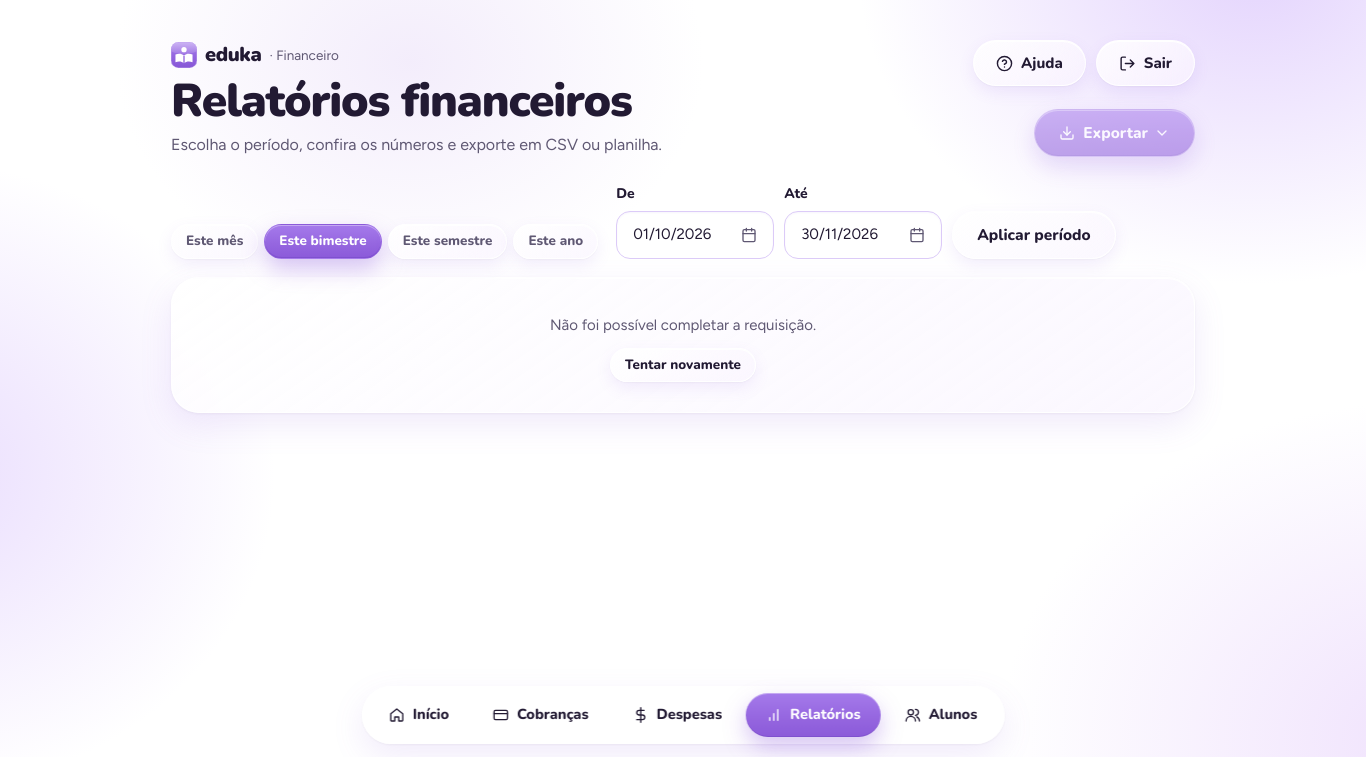
Relatórios financeiros › sem o relatório, avisa o erro e não deixa exportar
expect the message "Não foi possível completar a requisição. Tentar novamente" is shown: met, box [171,277,1195,413]
expect the button "Exportar" is disabled: met, box [1034,109,1195,157]
Click the button "Tentar novamente": (683, 365) [610,348,756,382]
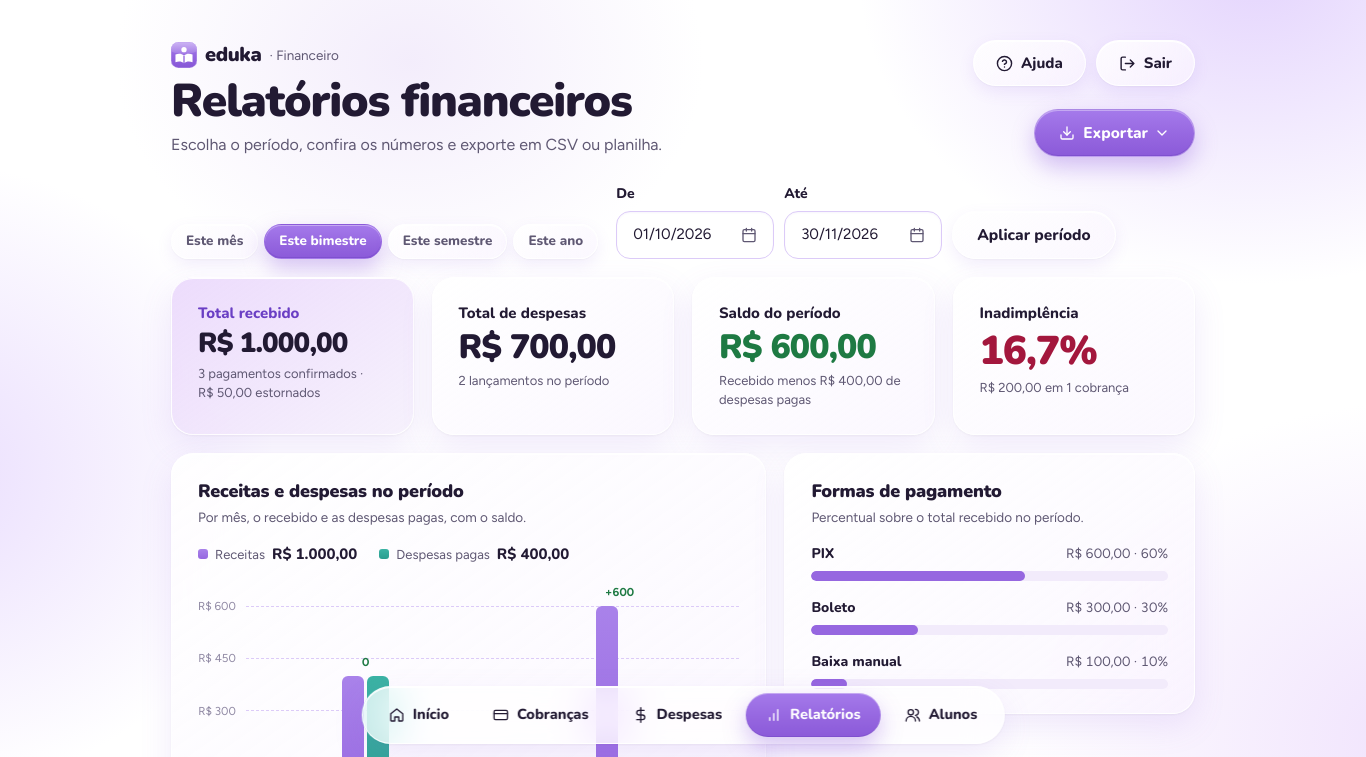
expect the element named "Números do período" is shown: met, box [171,277,1195,435]
expect the button "Exportar" is enabled: met, box [1034,109,1195,157]
